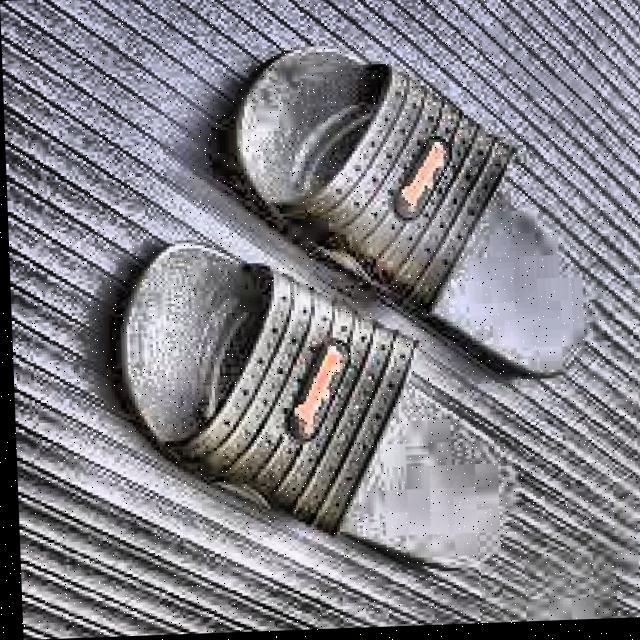shoes: (42, 2, 627, 638)
